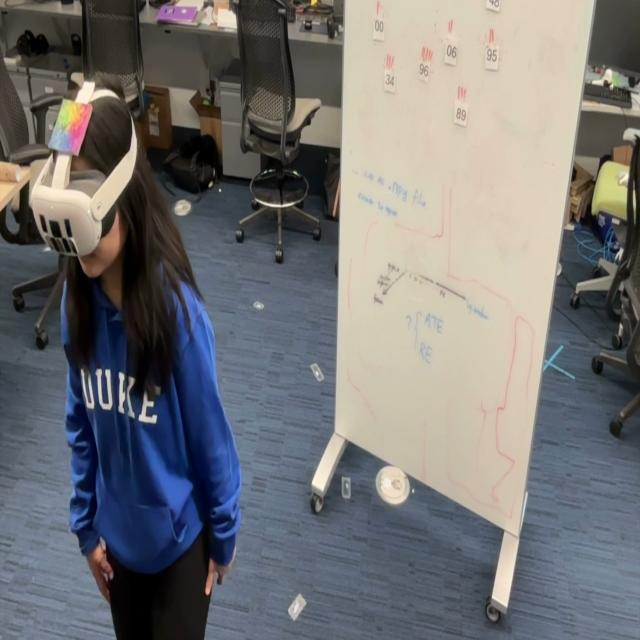Headset: (29, 88, 138, 257)
Marker: (50, 96, 93, 162)
